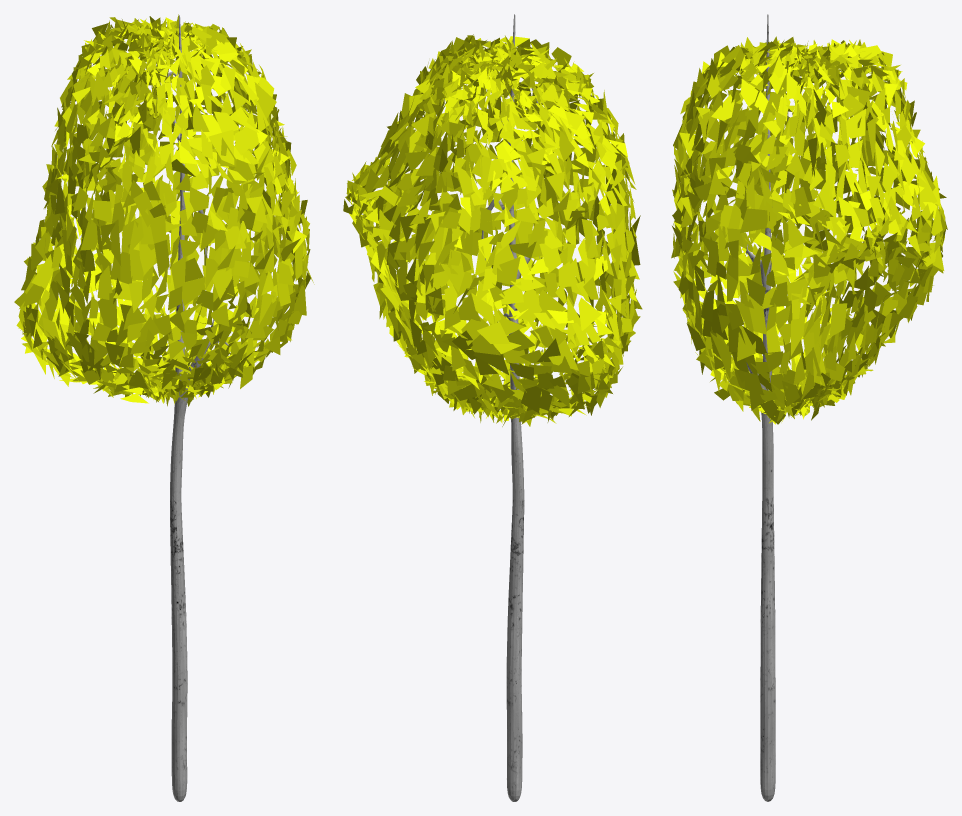
Rendered from Leaves52.fbx.
The picture shows the model from 3 angles, left to right: view 1: azimuth 30°, elevation 25°; view 2: azimuth 150°, elevation 25°; view 3: azimuth 270°, elevation 25°; orthographic projection.
Visible parts, largest first — view 1: Leaves52; view 2: Leaves52; view 3: Leaves52.
Part boxes in pixels (x1,y1,x2,y2): Leaves52: (14, 14, 314, 801); Leaves52: (343, 14, 642, 801); Leaves52: (671, 14, 947, 801).
Size of the model in its own units: 903 by 2574 by 820.
Materials: 2 (1 with a texture image).
